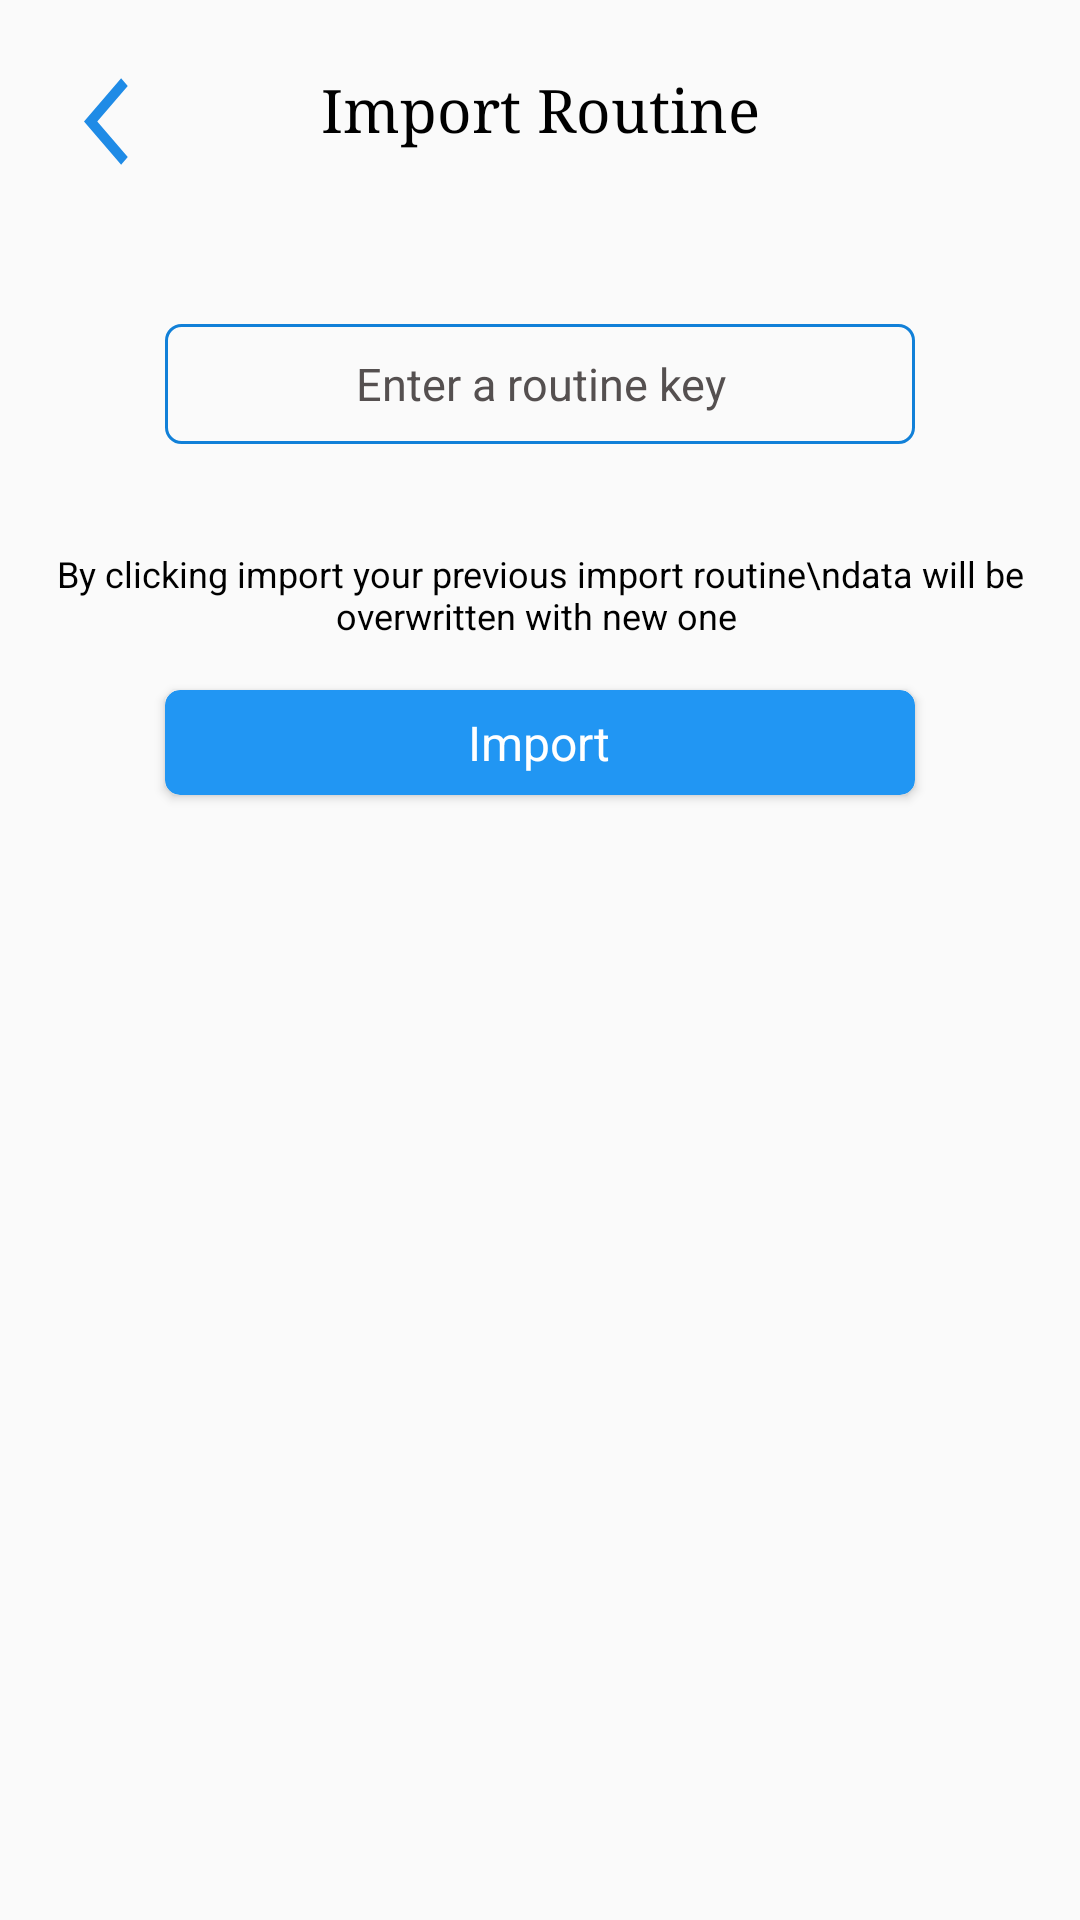

Locate icon controls on the screen. Image size 1080 × 1920, boxes as (x1, y1, x2, y2).
back: (84, 78, 128, 165)
